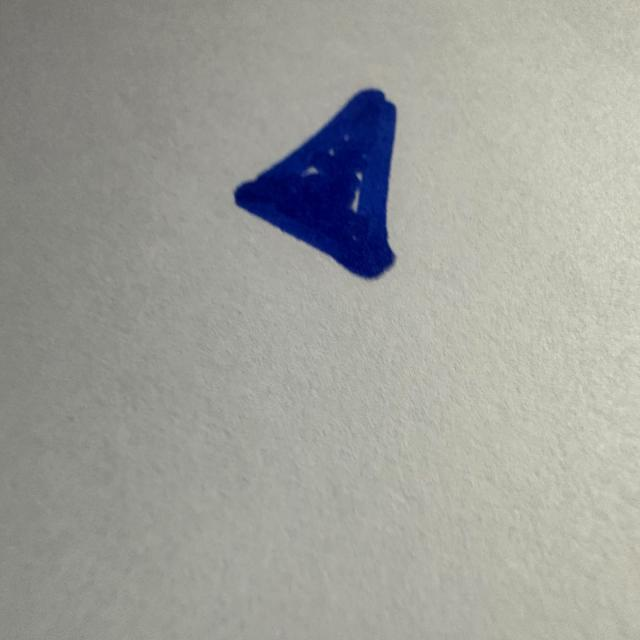Triangle: (234, 89, 396, 278)
